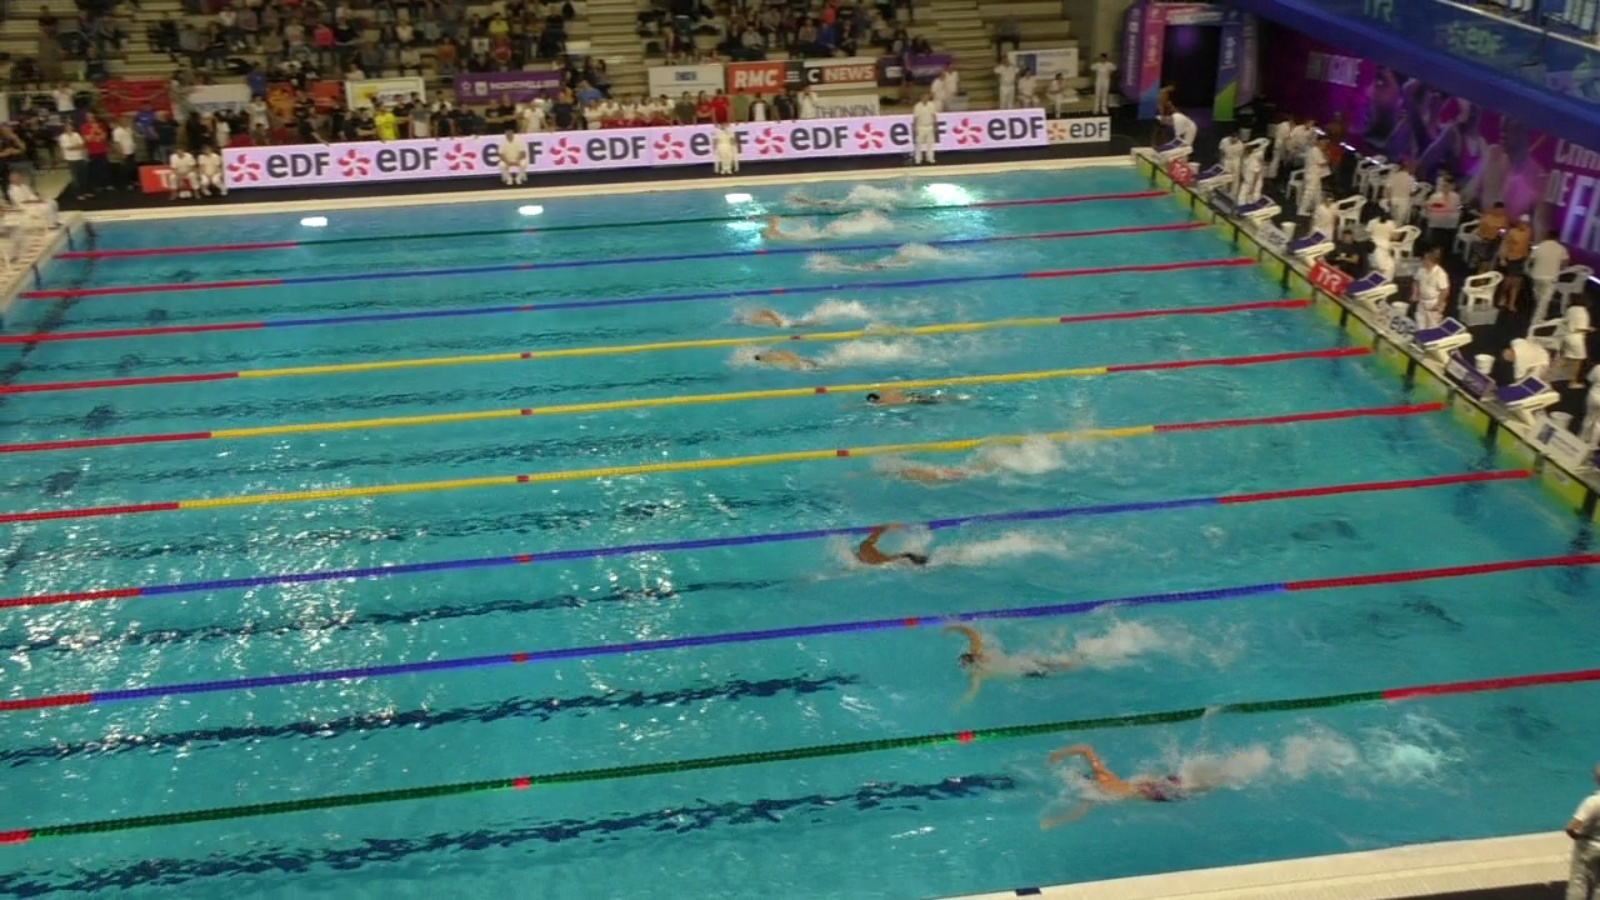swimmerwdd: (1034, 745, 1270, 833), (938, 624, 1118, 705), (831, 521, 1015, 588), (745, 211, 862, 251), (870, 462, 1019, 491), (722, 303, 858, 335), (731, 349, 881, 376), (851, 385, 989, 411), (821, 256, 935, 280), (781, 191, 884, 211)
